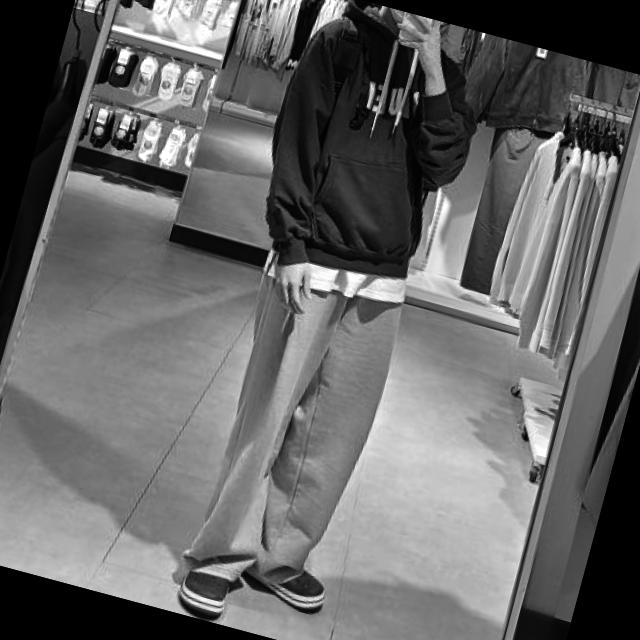hoodies: (239, 0, 498, 304)
trainingpants: (186, 256, 414, 614)
